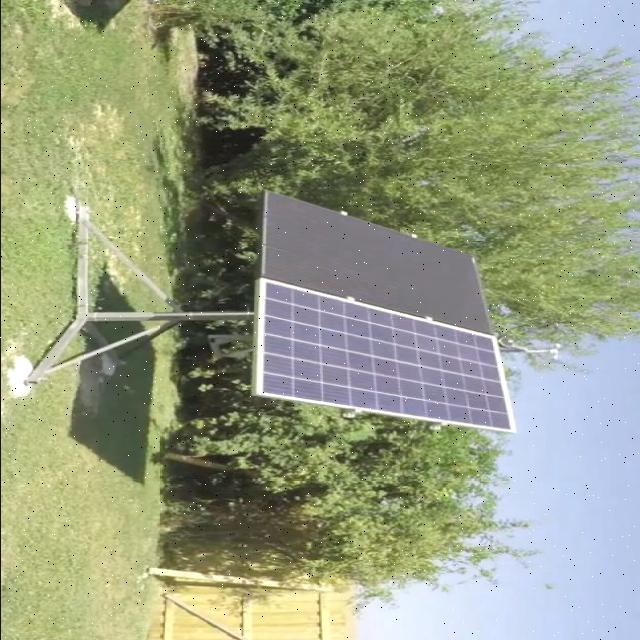Normal Solar Panel: (255, 278, 512, 432), (260, 194, 491, 334)
